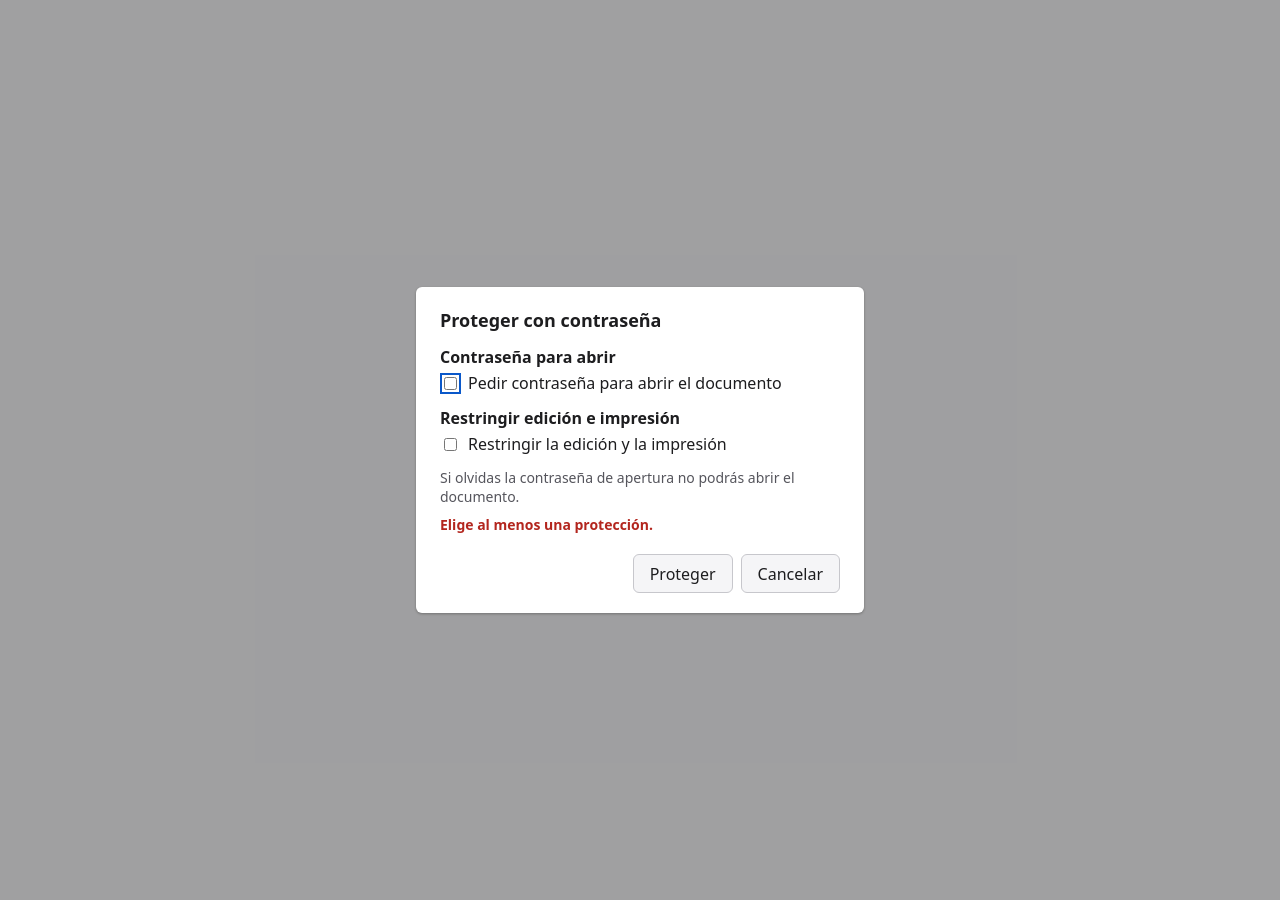
Scenario: ProtectDialog (PDF-132) › confirmación distinta: «Las contraseñas no coinciden.»; igual: el botón se habilita
Click the checkbox labelled "Pedir contraseña para abrir el documento": (450, 384) [444,377,457,390]
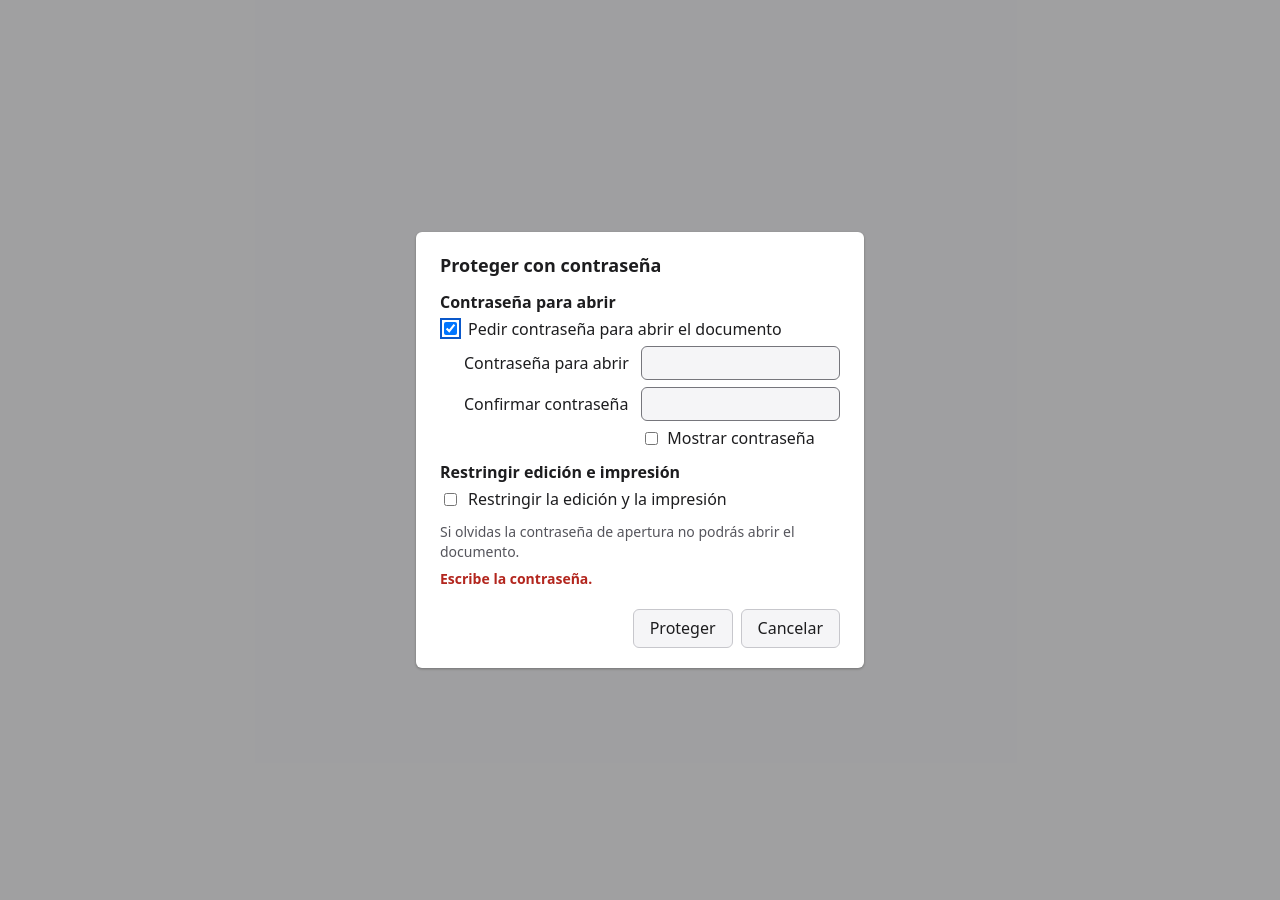
In the password field labelled "Contraseña para abrir": (740, 363) [641,346,840,380], type "abc"
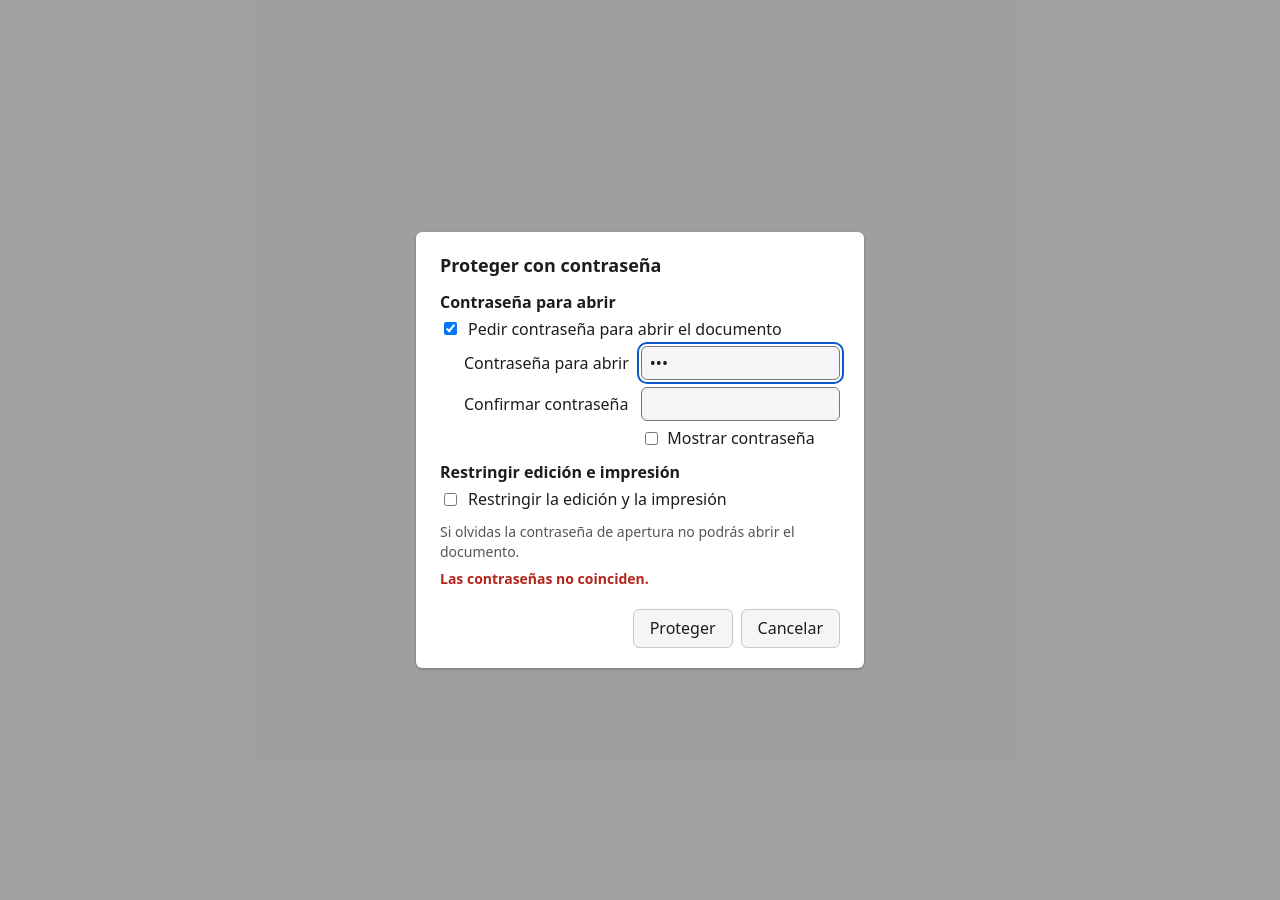
In the password field labelled "Confirmar contraseña": (740, 404) [641,387,840,421], type "abd"
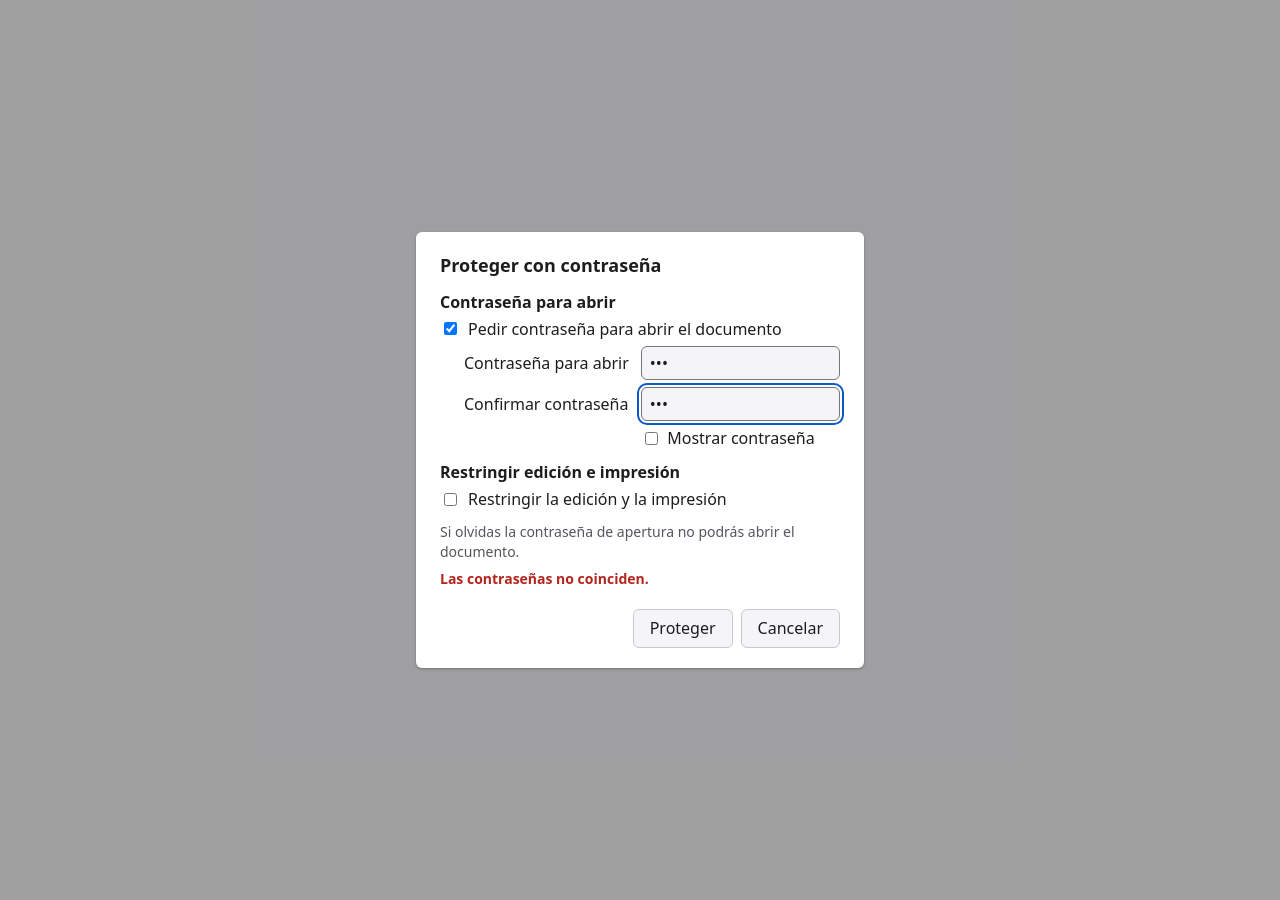
Expected: the button "Proteger" is disabled, [633,609,733,648]
Now the message reads "Las contraseñas no coinciden.", box [440,570,649,588]
In the password field labelled "Confirmar contraseña": (740, 404) [641,387,840,421], type "abc"
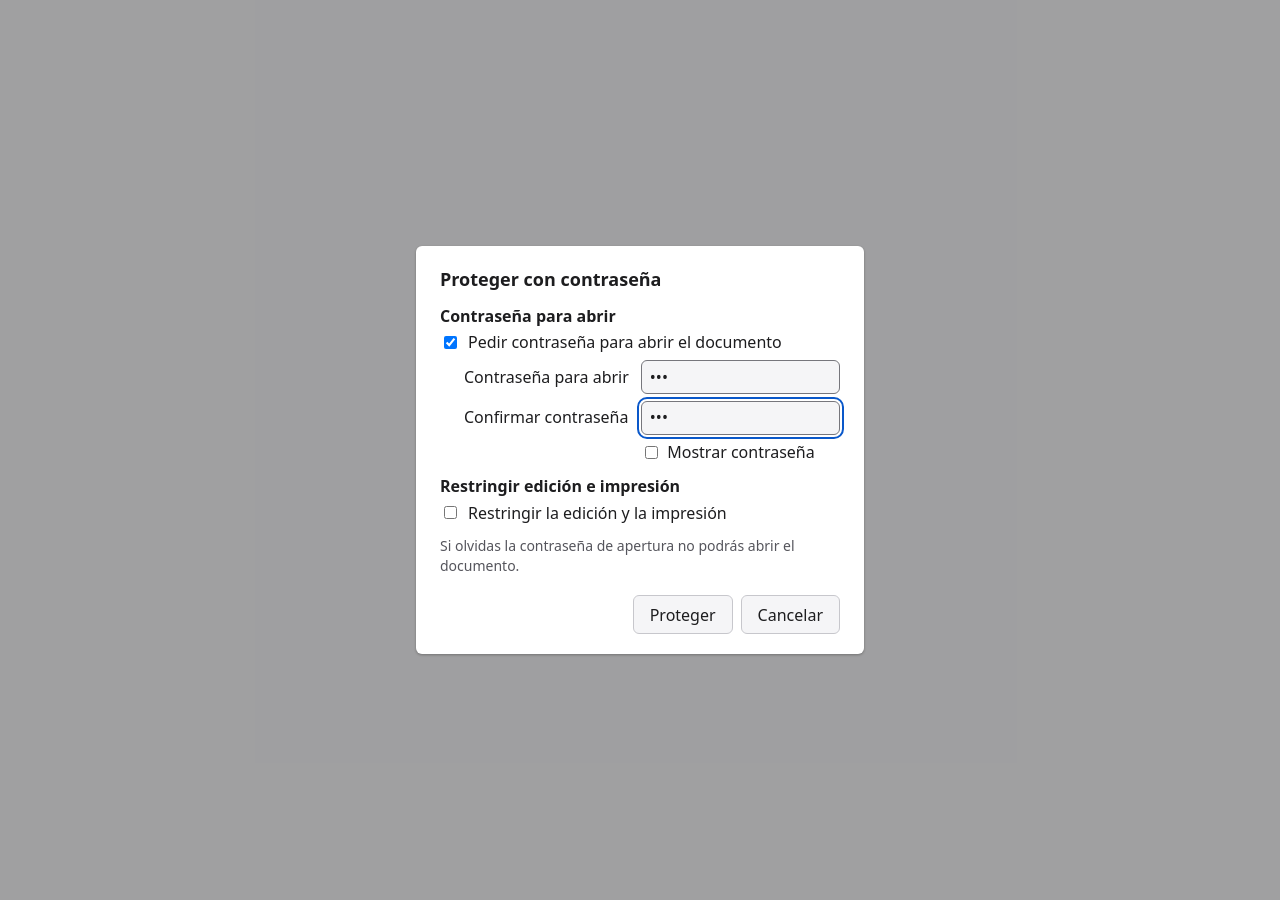
Now the message "Las contraseñas no coinciden." is gone
Now the button "Proteger" is enabled, box [633,595,733,634]
